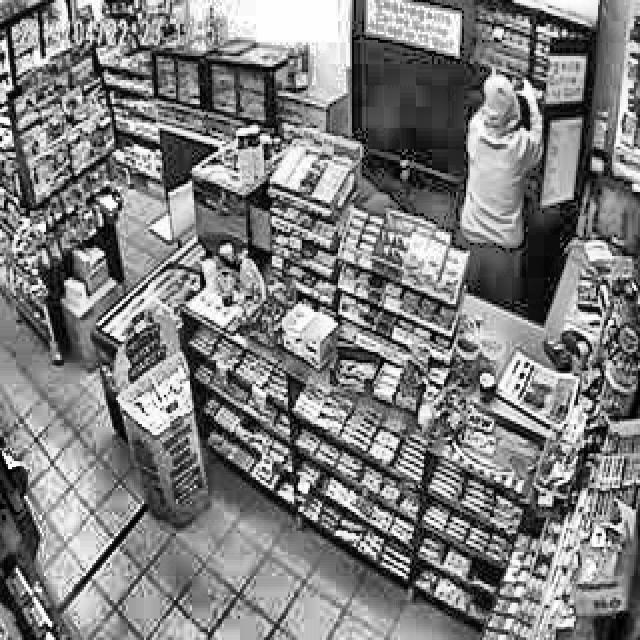robbery: (454, 68, 551, 305)
